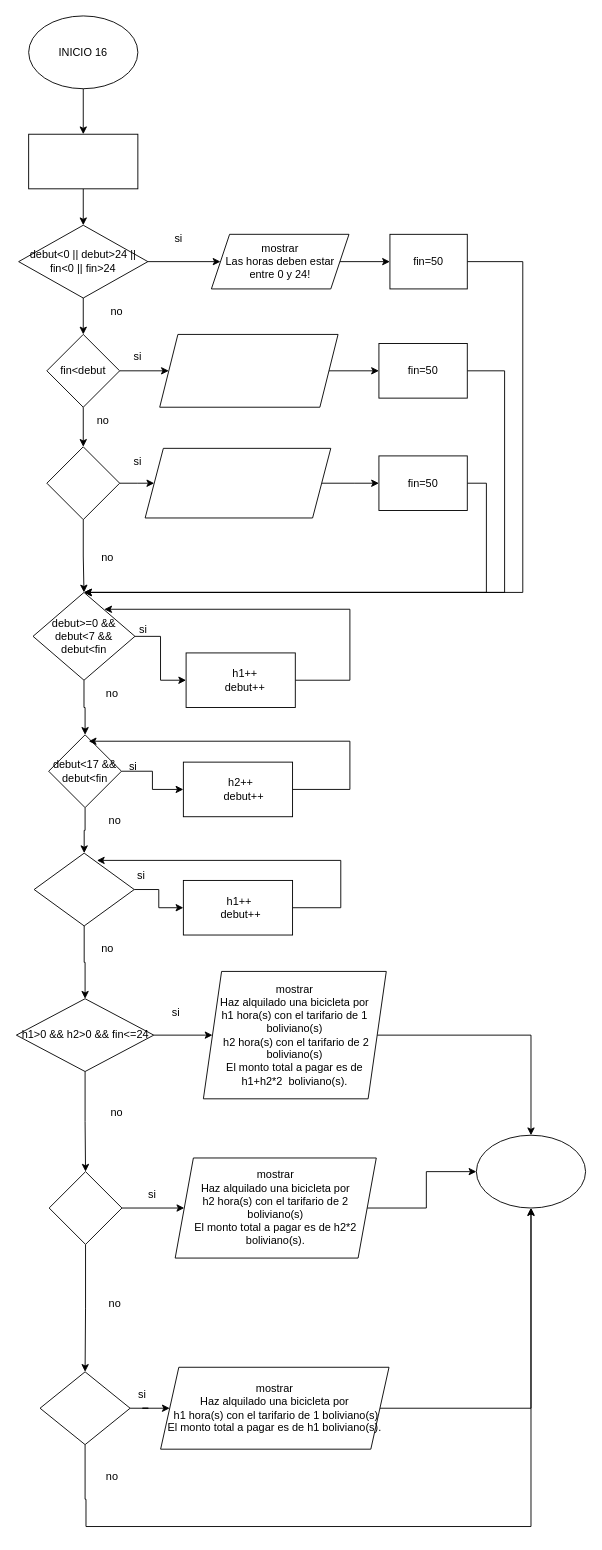
Some shapes in this 602 by 1550 pixel diagram are drawn without their labels. Here are the shapes that lost their labels. From the top down, the centre of each, then its label:
point (83, 161): int debut, int fin int h1=0,h2=0
point (248, 370): mostrar Que extraño, el inicio del alquiler es después del final...
point (83, 483): debut==fin
point (237, 482): mostrar Que extraño, no has alquilado tu bicicleta por mucho tiempo!
point (83, 889): debut<fin && fin<=24
point (530, 1171): FIN
point (85, 1207): h1==0 && fin<=24
point (84, 1408): h2==0 && fin<=24
